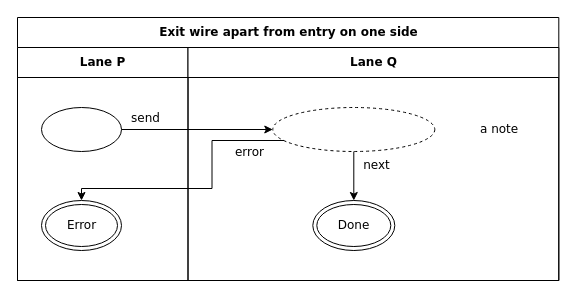
Some shapes in this 577 by 298 pixel diagram are drawn without their labels. Here are the shapes that lost their labels. From the top down, the centre of each, then its label:
the point at 81,129: Enter
the point at 353,129: External system
